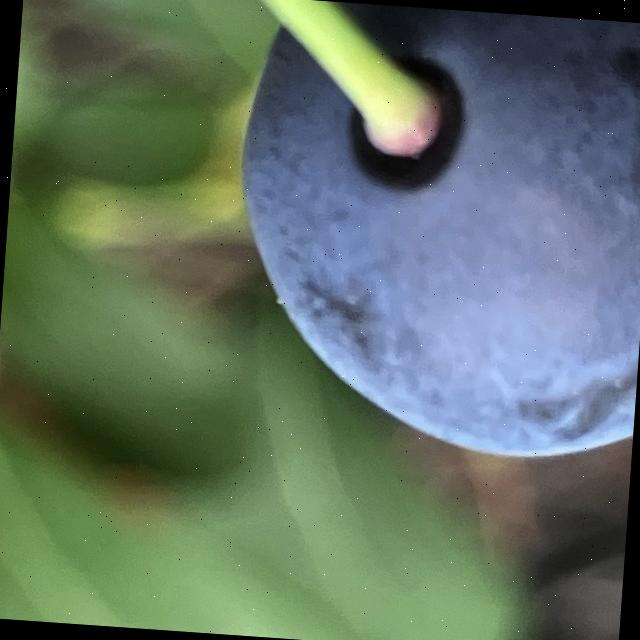Blueberries: (218, 0, 640, 473)
